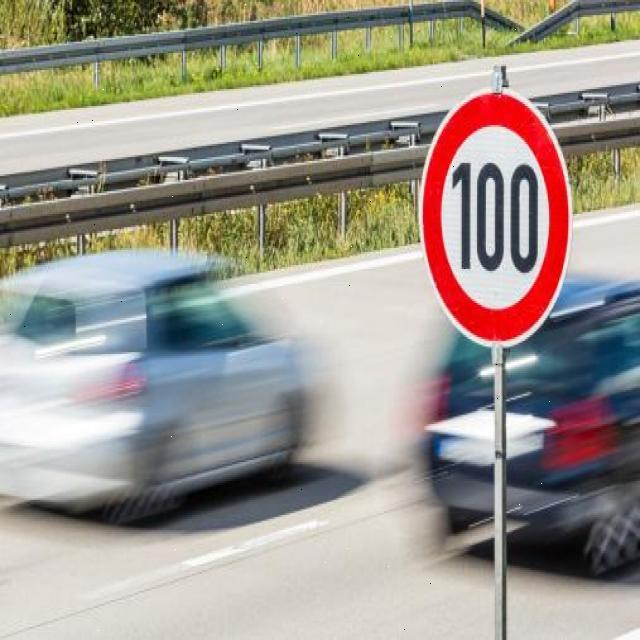speed limit 100: (419, 90, 573, 346)
